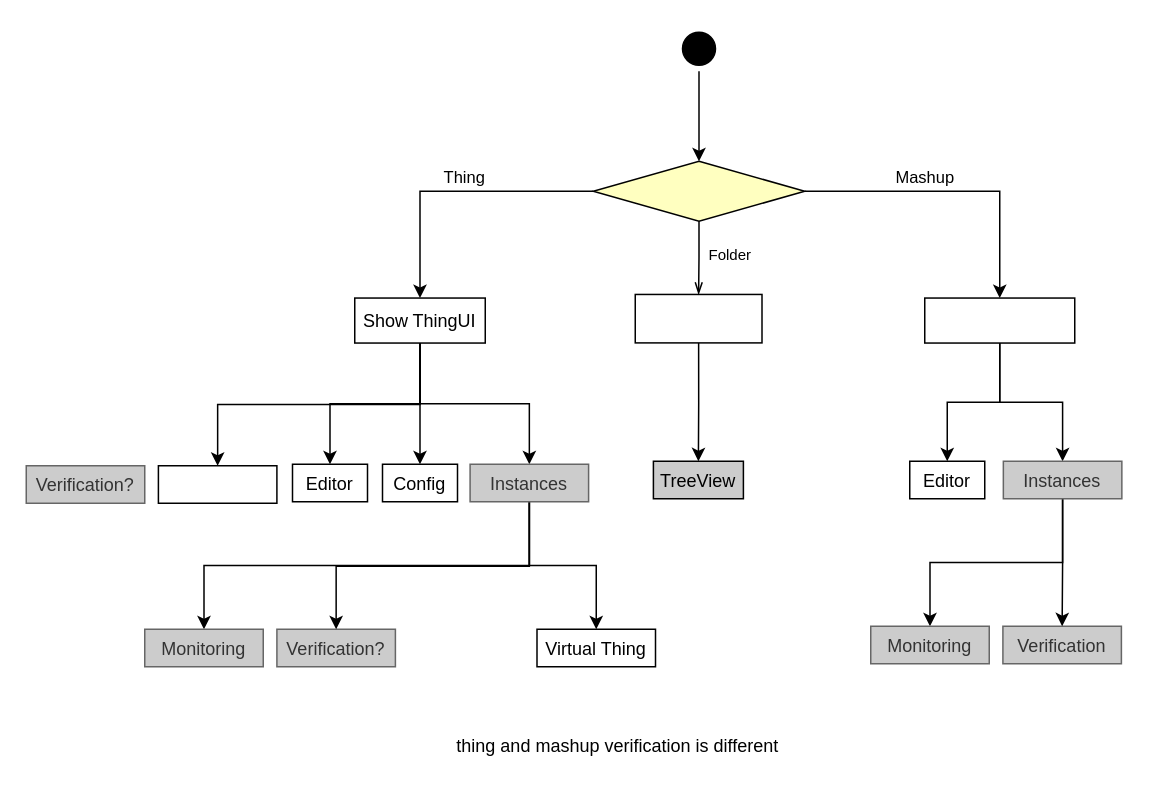
Image size: 1149x788. Some labels were removed from this diagram. Each missing label, with the centre of its shape:
"Performance" goes at point (217, 483).
"selected.type" goes at point (698, 190).
"Show FolderUI" goes at point (698, 318).
"Show MashupUI" goes at point (999, 320).
